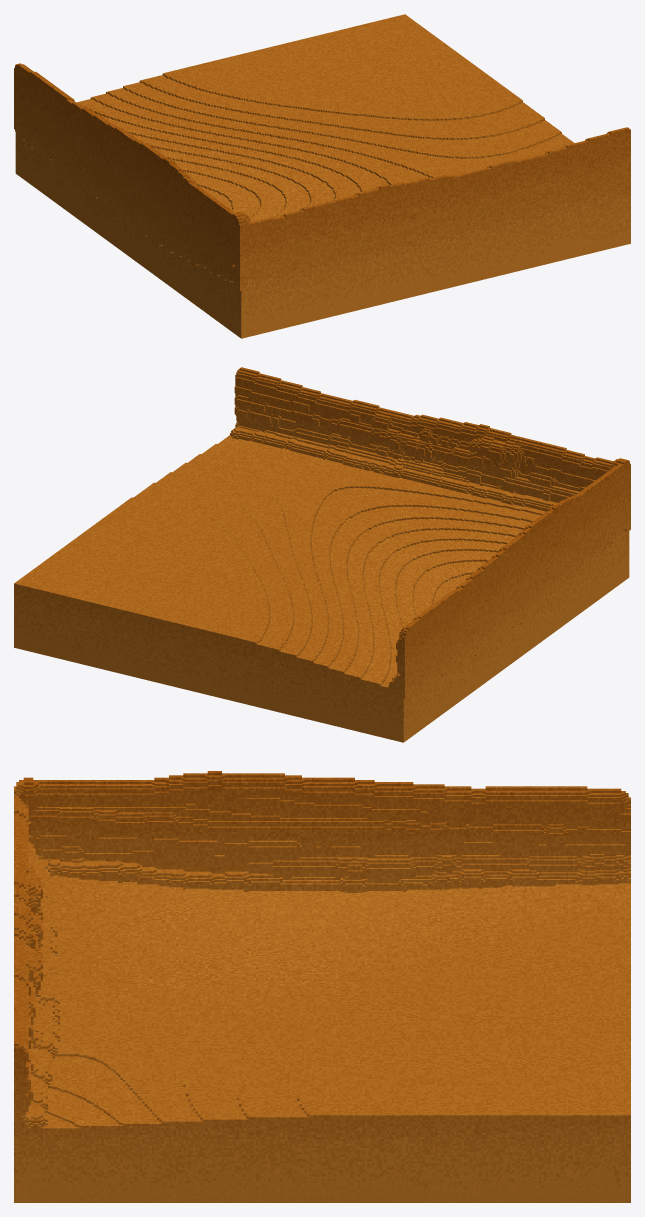
File: Marte-15.obj
3 views of the same model, one above another, from view 1: azimuth 30°, elevation 25°; view 2: azimuth 150°, elevation 25°; view 3: azimuth 270°, elevation 25° (orthographic). The views are drawn at different scales.
Bounding box in the file's own units: 25.5 × 7.8 × 25.5.
1 material, 1 textured.
